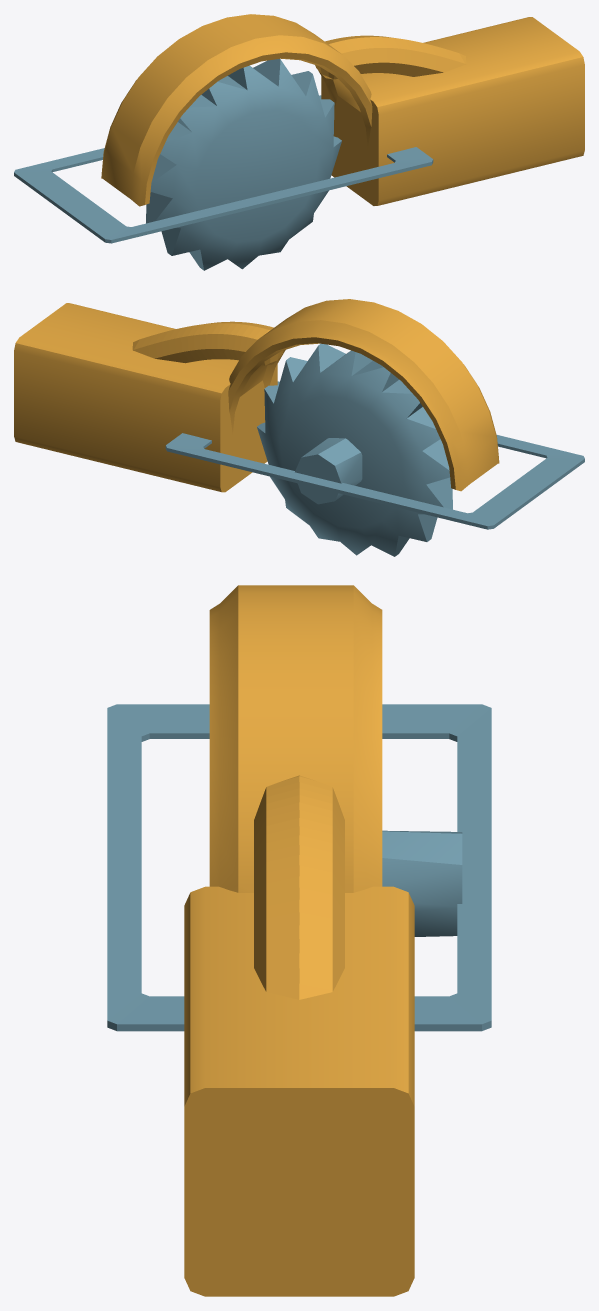
The model's file is SM_Saw_1.fbx.
3 renders of one model, top to bottom at view 1: azimuth 30°, elevation 25°; view 2: azimuth 150°, elevation 25°; view 3: azimuth 270°, elevation 25°, orthographic. The views are drawn at different scales.
Visible parts, largest first — view 1: SawBody, SawBlade; view 2: SawBody, SawBlade; view 3: SawBody.
Part boxes in pixels (x1=…): SawBody: x1=14, y1=14, x2=584, y2=243; SawBlade: x1=146, y1=59, x2=341, y2=270; SawBody: x1=14, y1=299, x2=584, y2=529; SawBlade: x1=257, y1=343, x2=452, y2=556; SawBody: x1=107, y1=585, x2=491, y2=1296.
Size of the model in its own units: 299 by 138 by 100.
